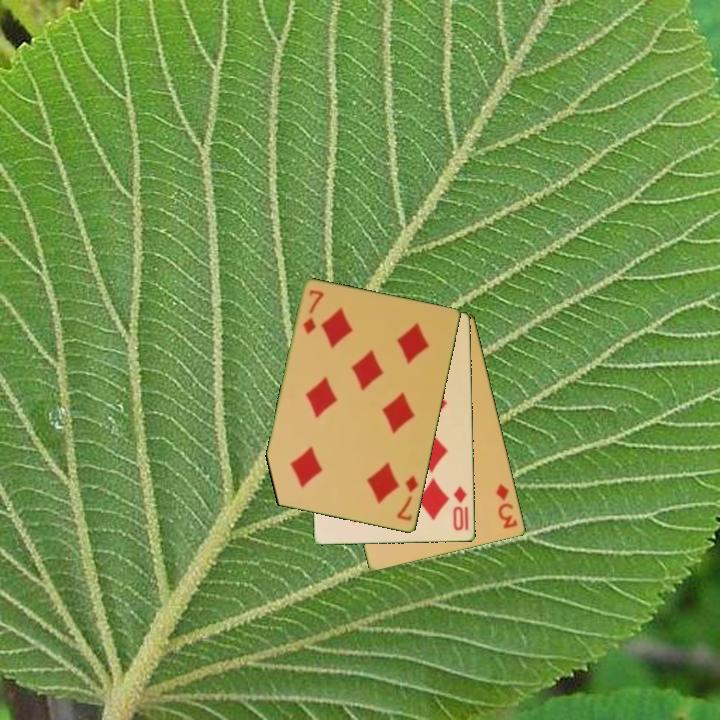10d: (450, 483, 470, 534)
3d: (493, 480, 520, 532)
7d: (393, 473, 421, 524), (300, 286, 327, 337)
